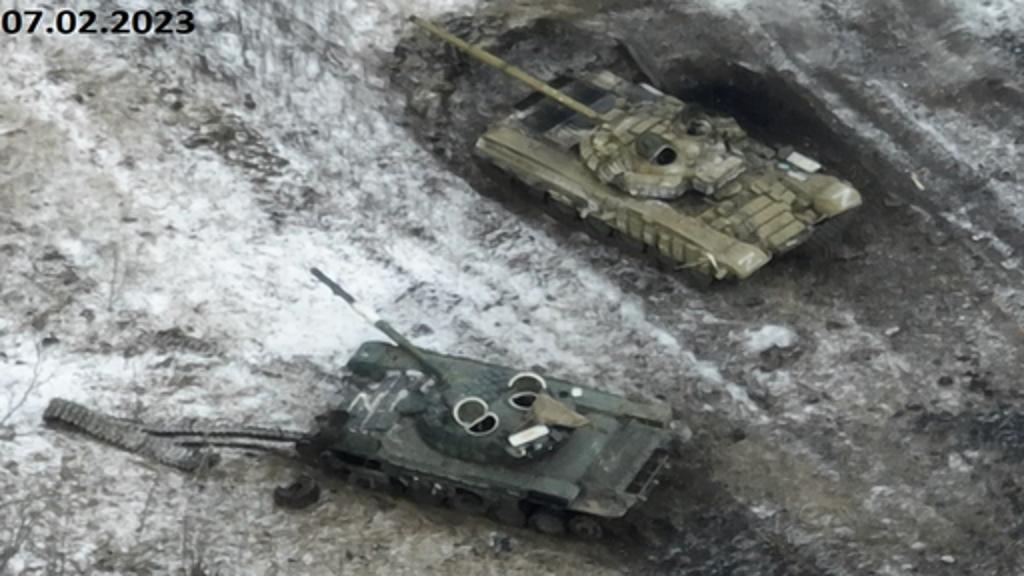TANK: (404, 10, 860, 288), (290, 256, 682, 534)
